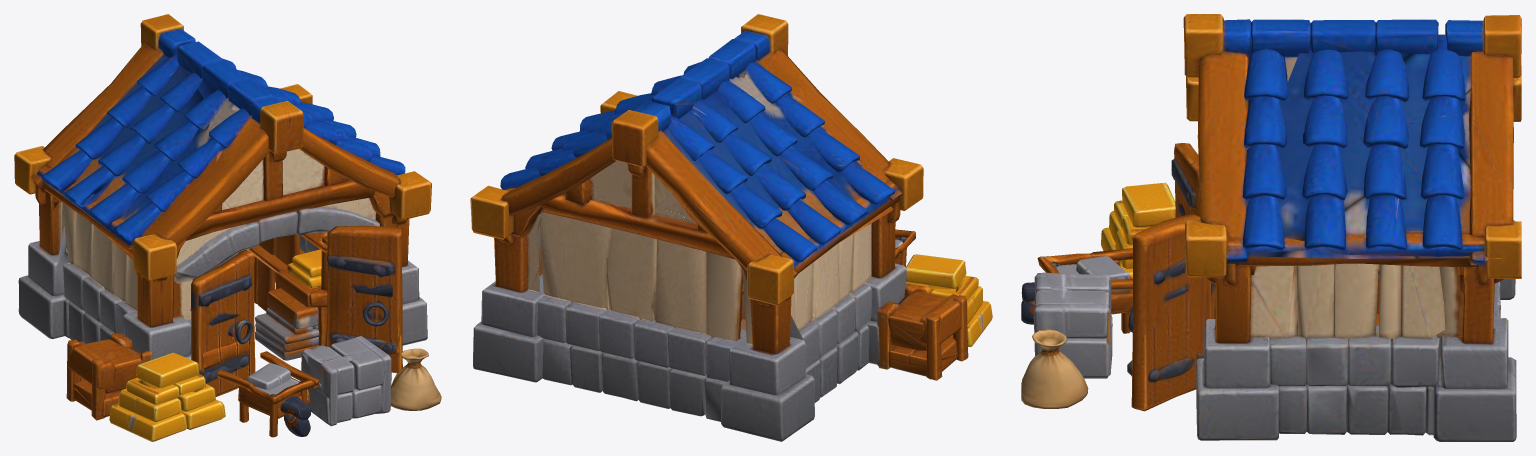
The model's file is deposito-minerales_e4.glb.
3 views of the same model, side by side, from view 1: azimuth 30°, elevation 25°; view 2: azimuth 150°, elevation 25°; view 3: azimuth 270°, elevation 25° (orthographic). The views are drawn at different scales.
Visible parts, largest first — view 1: deposito-minerales_cuerpo; view 2: deposito-minerales_cuerpo; view 3: deposito-minerales_cuerpo.
Part boxes in pixels (left/top/right/bottom): deposito-minerales_cuerpo: left=14, top=14, right=441, bottom=441; deposito-minerales_cuerpo: left=470, top=14, right=992, bottom=441; deposito-minerales_cuerpo: left=1021, top=14, right=1521, bottom=441.
Size of the model in its own units: 1.84 by 1.41 by 1.9.
Materials: 1 (1 with a texture image).
